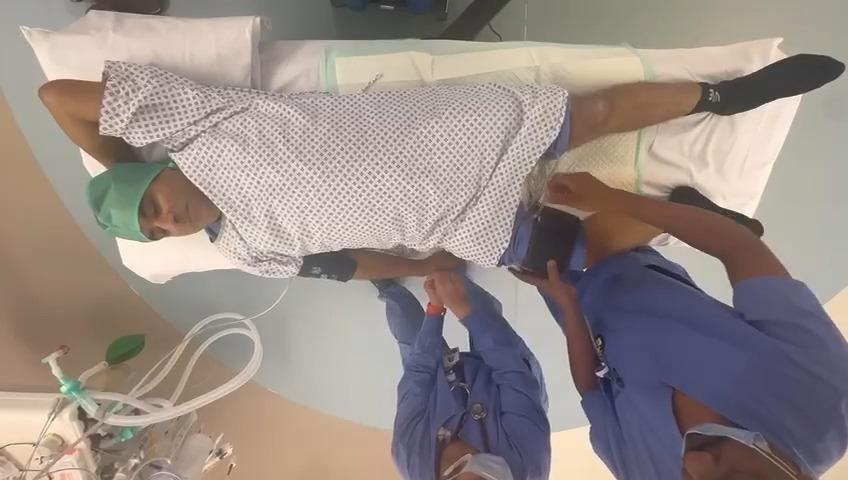patient: (40, 55, 845, 281)
tourniquet: (520, 207, 581, 276)
